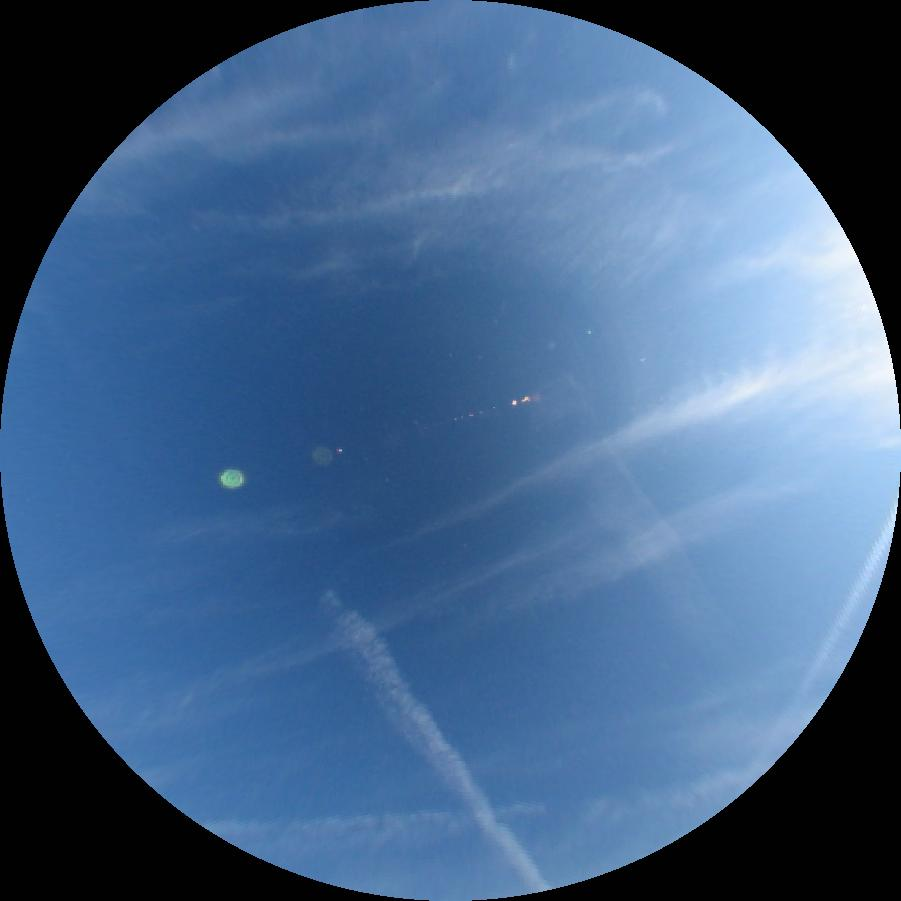contrail old: (741, 493, 897, 780)
contrail veryold: (321, 591, 551, 892), (205, 763, 769, 865), (564, 433, 741, 654)
